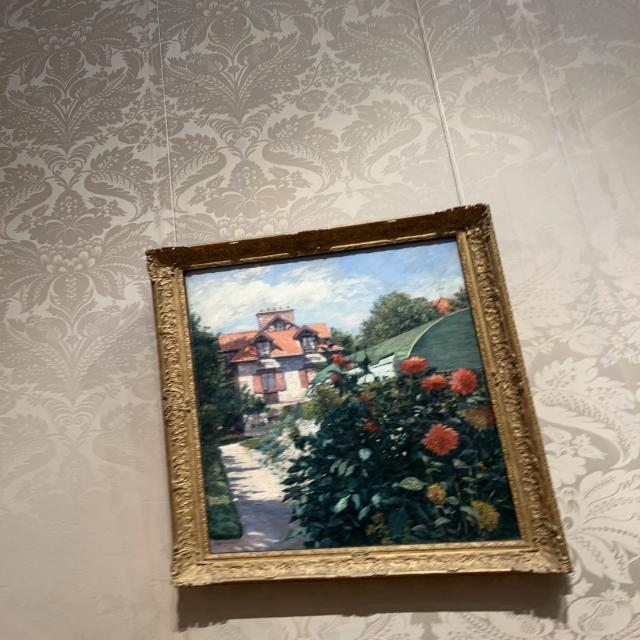summer: (186, 240, 516, 551)
